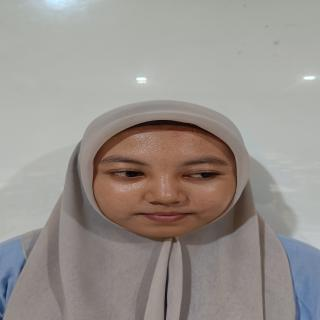Netral: (87, 123, 255, 247)
